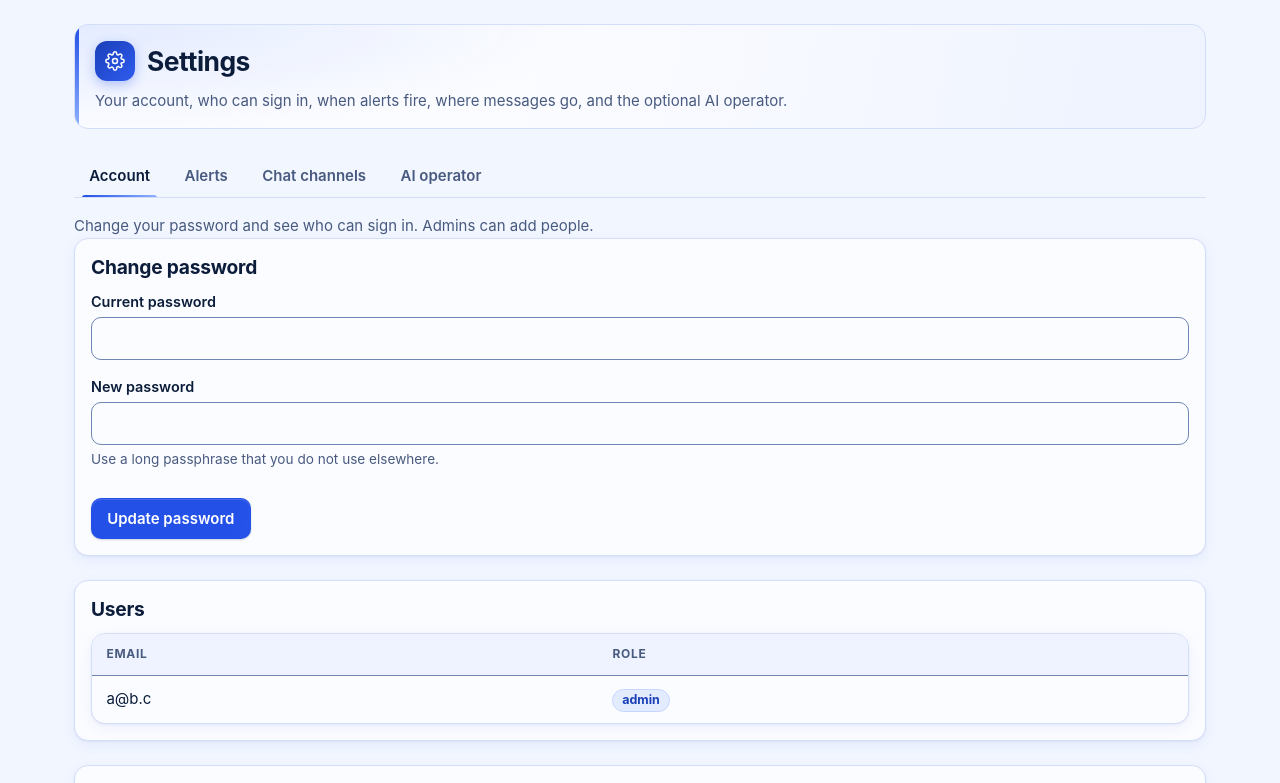
Settings M6 › validates alert settings inline for admins
Click the tab "Alerts" at (206, 175), box [169,153,243,197]
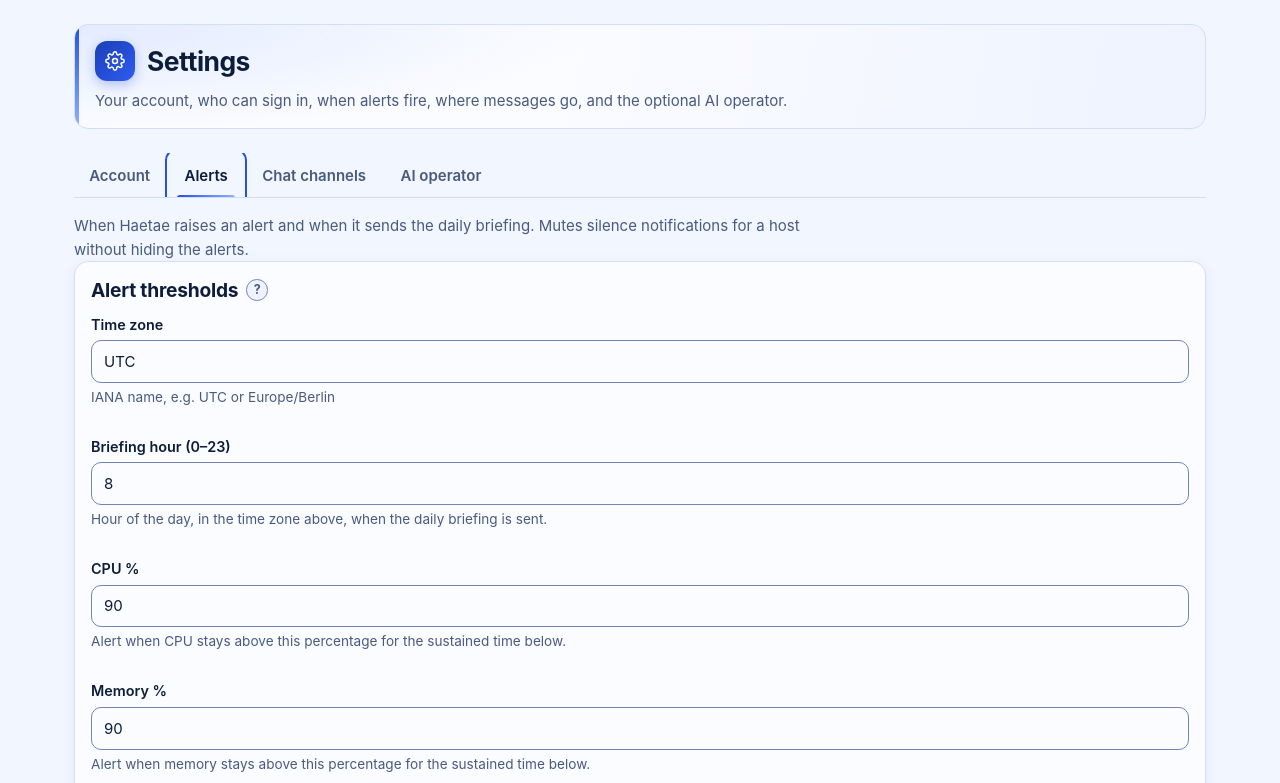
Replace the text in the field labelled "Time zone" with "Not/AZone" at (640, 362), box [91,340,1189,383]
(page scrolled)
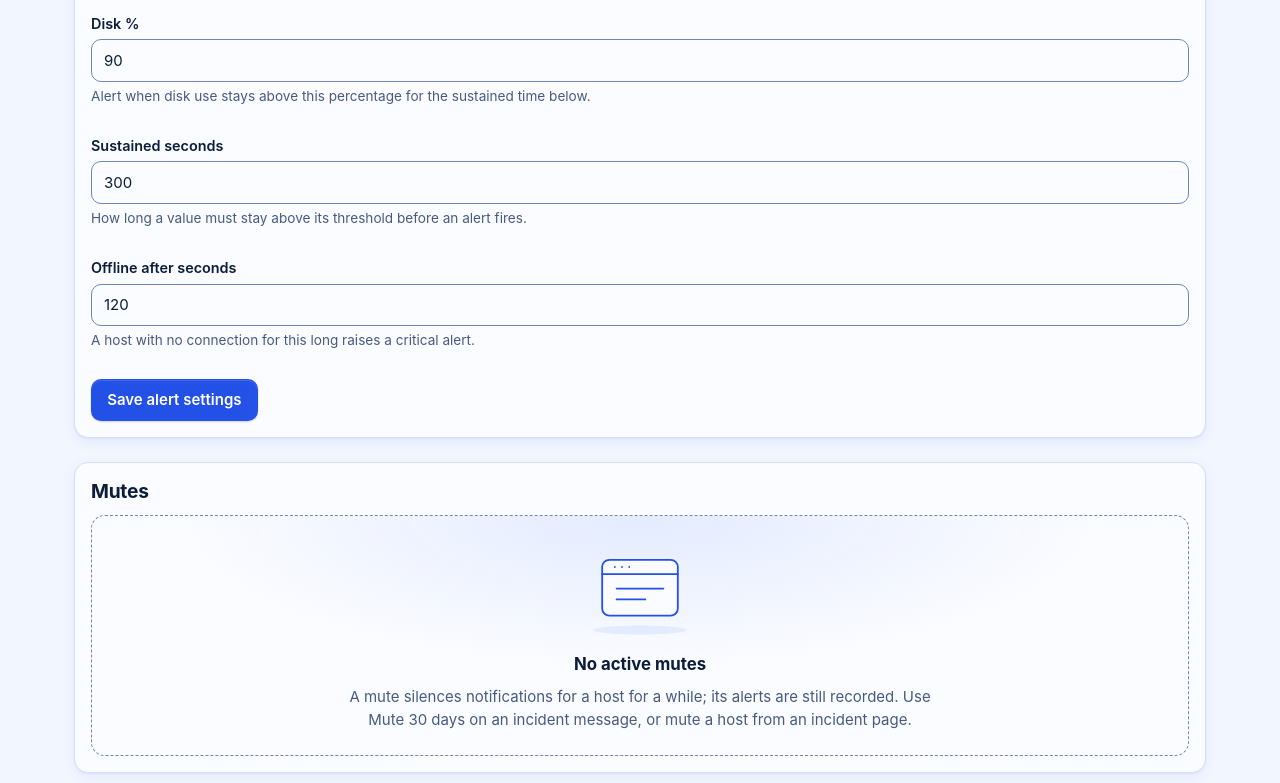
Click the button "Save alert settings" at (174, 400), box [91,379,258,421]
(page scrolled)
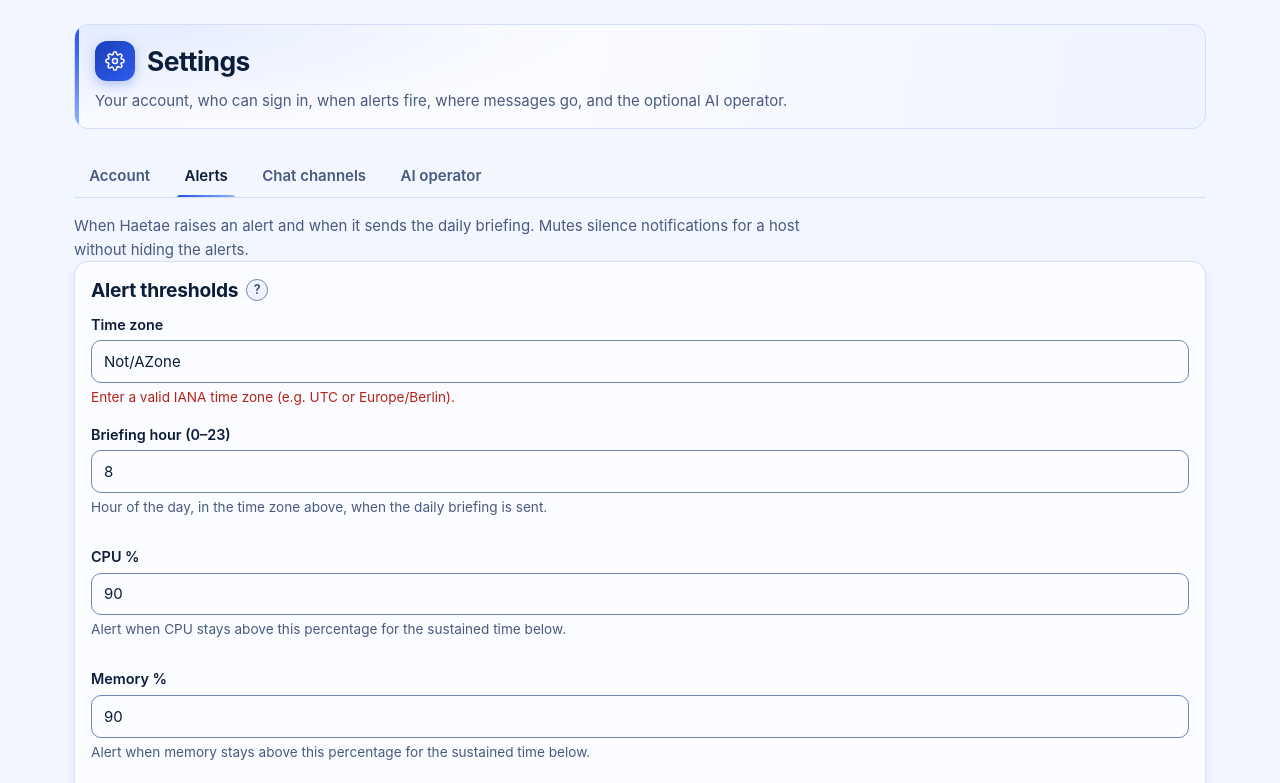
Expected: the text "Enter a valid IANA time zone (e.g. UTC or Europe/Berlin)." is shown, [91,389,455,405]
